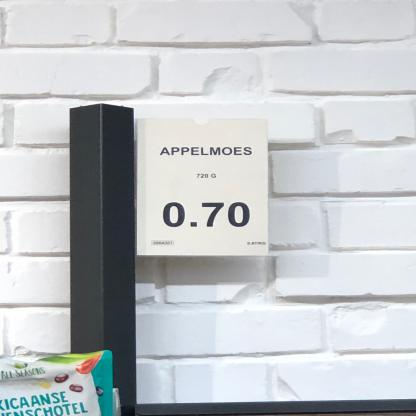prtg: (138, 120, 271, 256)
